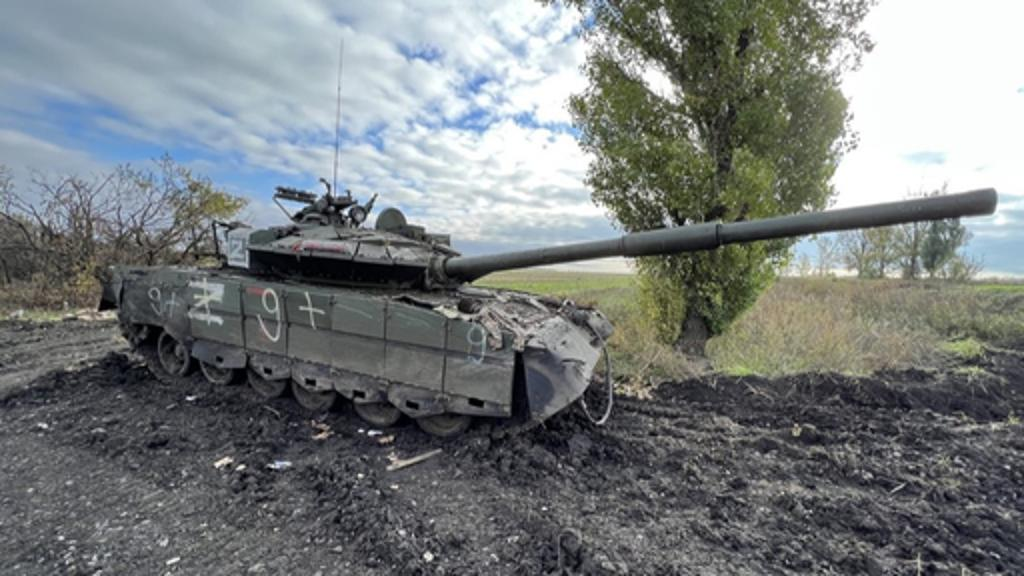TANK: (102, 172, 1002, 444)
